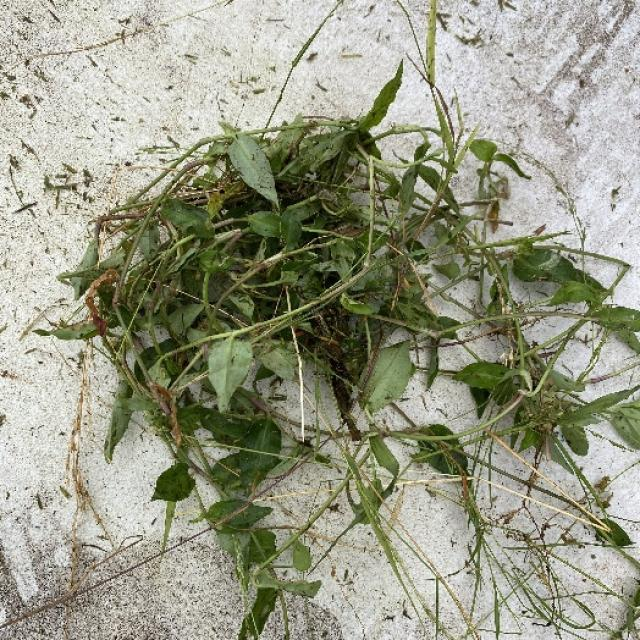organik: (98, 108, 640, 640)
